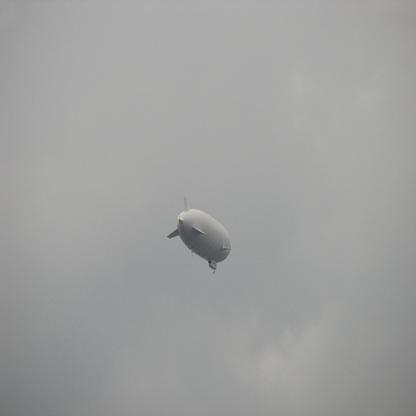Airship: (167, 195, 233, 276)
